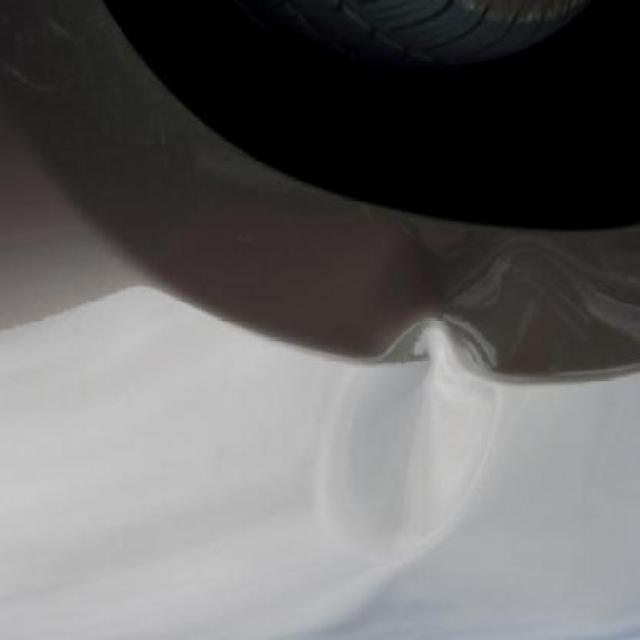dent: (319, 235, 579, 574)
